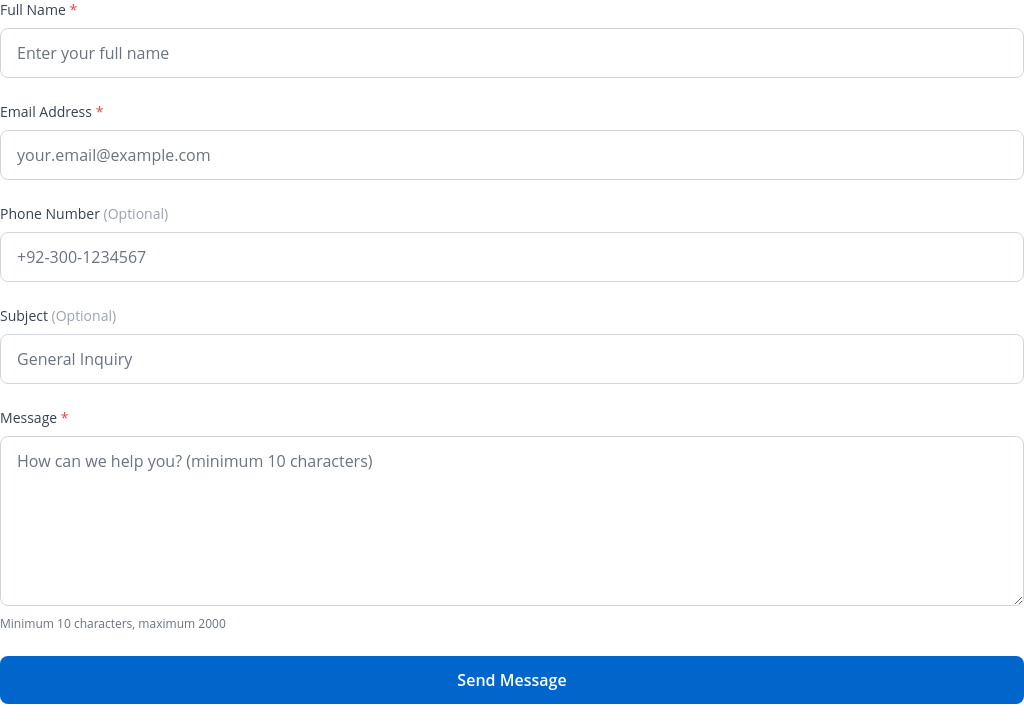
Test: ContactForm › Form Validation › should enforce minimum message length
This screenshot has width=1024, height=728.
Type "Short" into the text box labelled "Message *" at (512, 521), box [0, 436, 1023, 606]
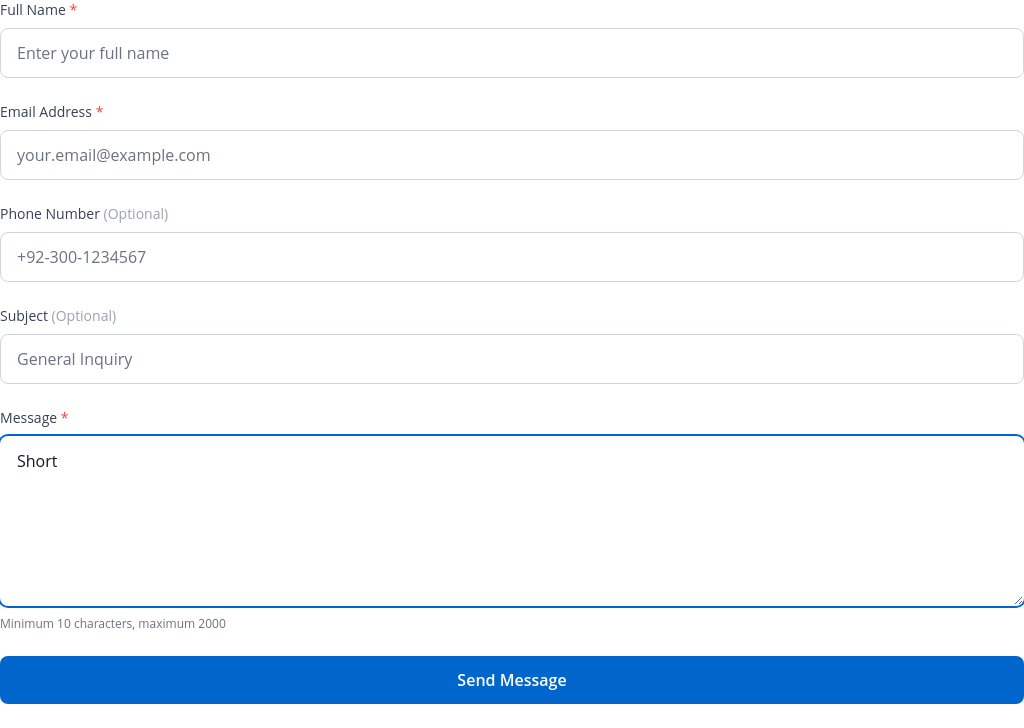
Click the button "Send Message" at (512, 680), box [0, 656, 1023, 704]
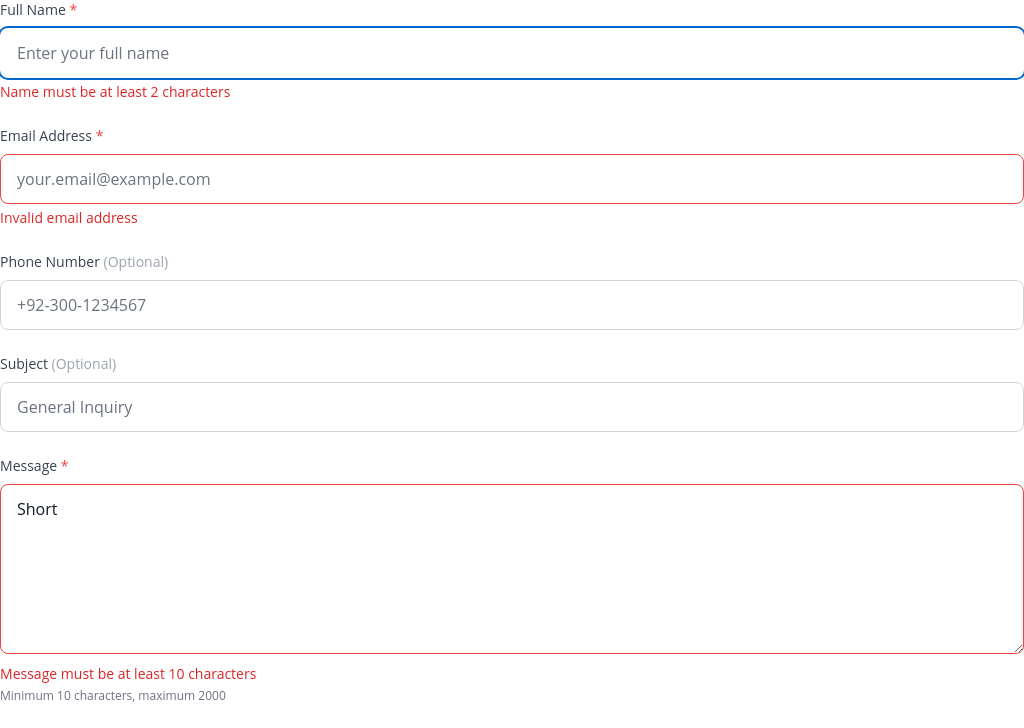
Expected: the text "Message must be at least 10 characters" is shown, [0, 664, 256, 683]
